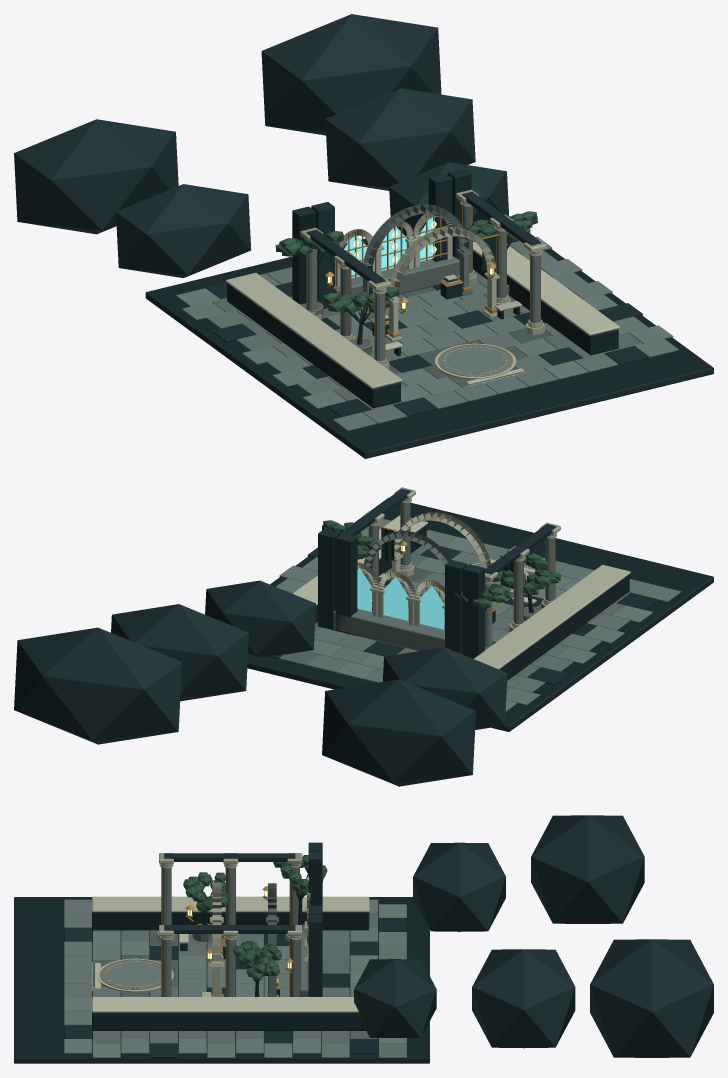
Rendered from sanctuary-v2.glb.
3 views of the same model, one above another, from view 1: azimuth 30°, elevation 25°; view 2: azimuth 150°, elevation 25°; view 3: azimuth 270°, elevation 25° (orthographic). The views are drawn at different scales.
Visible parts, largest first — view 1: TLL_SanctuaryV2_7, TLL_SanctuaryV2_0, TLL_SanctuaryV2_1, TLL_SanctuaryV2_2, TLL_SanctuaryV2_4, TLL_SanctuaryV2_6; view 2: TLL_SanctuaryV2_7, TLL_SanctuaryV2_0, TLL_SanctuaryV2_1, TLL_SanctuaryV2_4, TLL_SanctuaryV2_6, TLL_SanctuaryV2_2; view 3: TLL_SanctuaryV2_7, TLL_SanctuaryV2_0, TLL_SanctuaryV2_1, TLL_SanctuaryV2_4, TLL_SanctuaryV2_2.
Part boxes in pixels (bbox=[...]): TLL_SanctuaryV2_7: bbox=[14, 14, 713, 458]; TLL_SanctuaryV2_0: bbox=[176, 202, 678, 431]; TLL_SanctuaryV2_1: bbox=[225, 189, 619, 388]; TLL_SanctuaryV2_2: bbox=[299, 207, 540, 376]; TLL_SanctuaryV2_4: bbox=[275, 211, 537, 312]; TLL_SanctuaryV2_6: bbox=[344, 214, 434, 278]; TLL_SanctuaryV2_7: bbox=[14, 488, 713, 786]; TLL_SanctuaryV2_0: bbox=[276, 499, 680, 711]; TLL_SanctuaryV2_1: bbox=[292, 487, 630, 669]; TLL_SanctuaryV2_4: bbox=[322, 520, 561, 608]; TLL_SanctuaryV2_6: bbox=[357, 568, 444, 629]; TLL_SanctuaryV2_2: bbox=[360, 503, 554, 650]; TLL_SanctuaryV2_7: bbox=[14, 815, 713, 1063]; TLL_SanctuaryV2_0: bbox=[64, 864, 406, 1058]; TLL_SanctuaryV2_1: bbox=[89, 853, 369, 1012]; TLL_SanctuaryV2_4: bbox=[183, 855, 327, 980]; TLL_SanctuaryV2_2: bbox=[99, 869, 308, 996].
Size of the model in its own units: 28.64 by 7.56 by 40.37.
